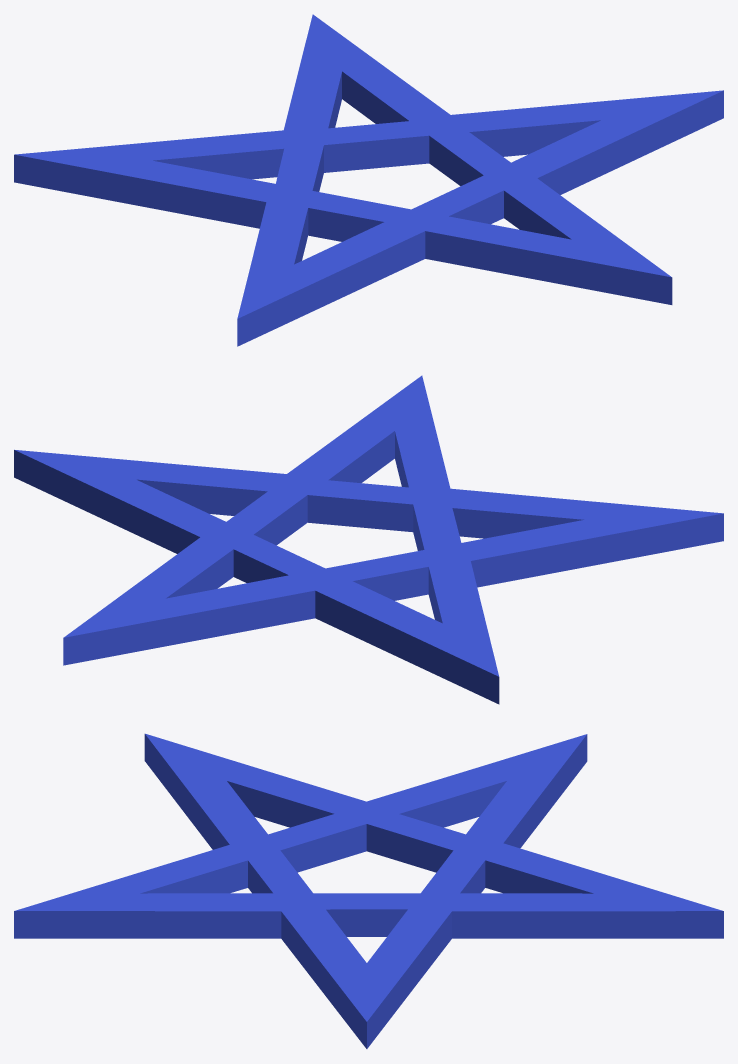
File: LargeStar.fbx
The picture shows the model from 3 angles, top to bottom: view 1: azimuth 30°, elevation 25°; view 2: azimuth 150°, elevation 25°; view 3: azimuth 270°, elevation 25°; orthographic projection.
Parts seen in each view (by area): view 1: floor.017; view 2: floor.017; view 3: floor.017.
Boxes of the visible parts, <box> form: floor.017: <box>14,14,723,346</box>; floor.017: <box>14,375,723,704</box>; floor.017: <box>14,733,723,1048</box>.
Size of the model in its own units: 716 by 31.76 by 744.
